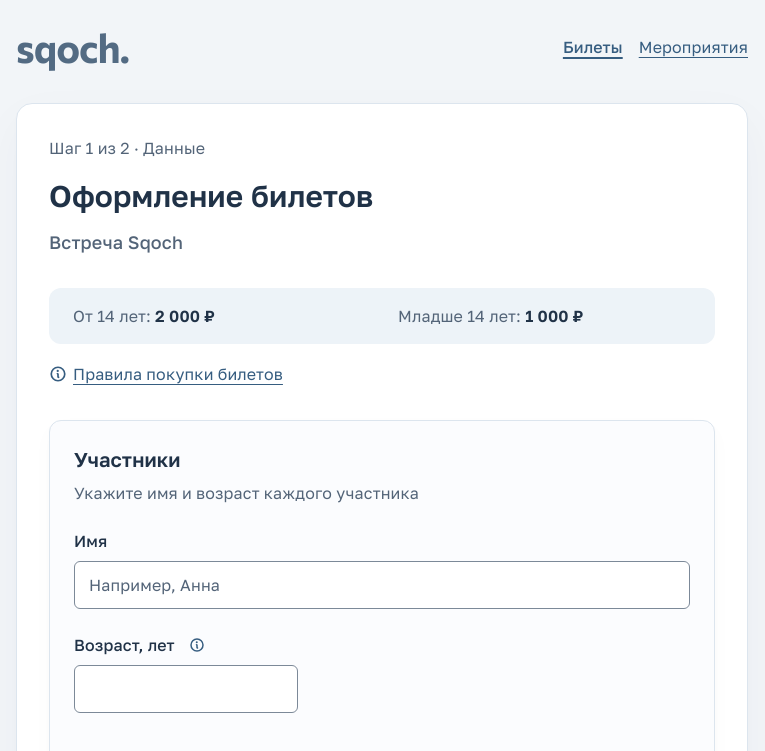
Test: Эвристическая доводка — test first › следующая структурная операция add отменяет возможность вернуть прежнее удаление
The width and height of the screenshot is (765, 751).
Expected: the heading "Оформление билетов" is shown, [49, 178, 373, 214]
Type "Анна" into the field labelled "Имя".
click(382, 585); type("Анна")  # box [74, 561, 690, 609]
Type "18" into the field labelled "Возраст, лет".
click(186, 689); type("18")  # box [74, 665, 298, 713]
(page scrolled)
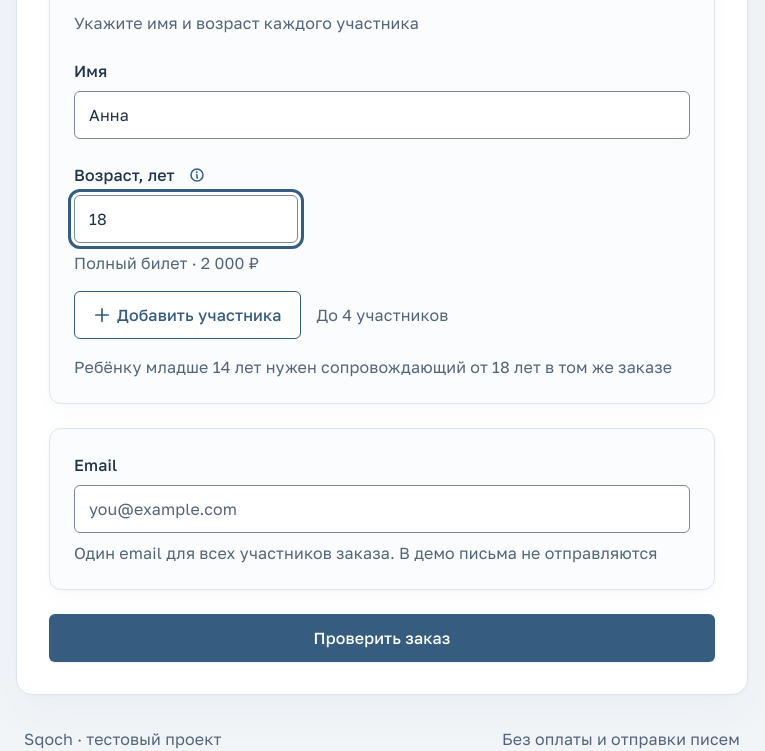
Type "anna@example.com" into the field labelled "Email".
click(382, 509); type("anna@example.com")  # box [74, 485, 690, 533]
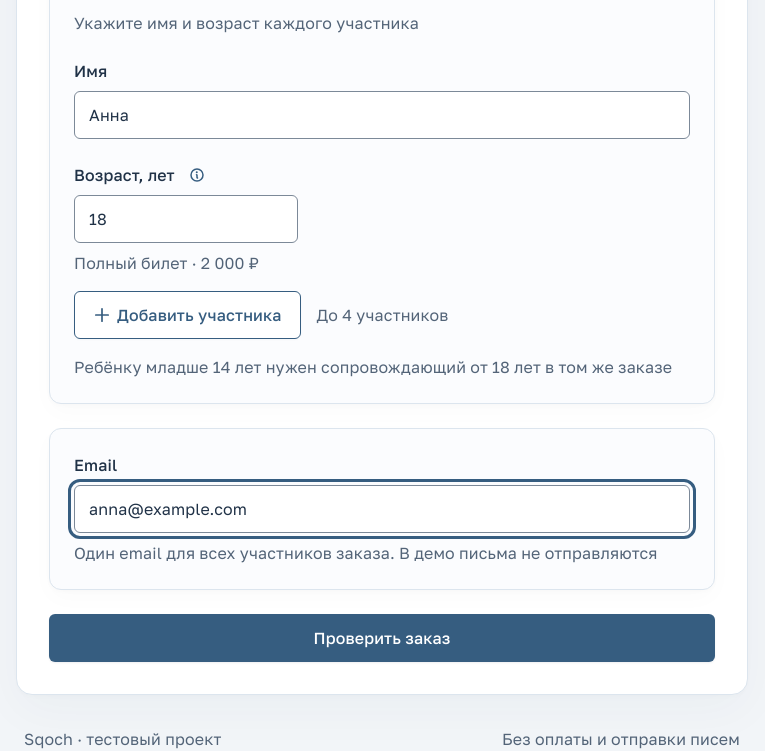
Click the button "Добавить участника".
click(187, 315)  # box [74, 291, 301, 339]
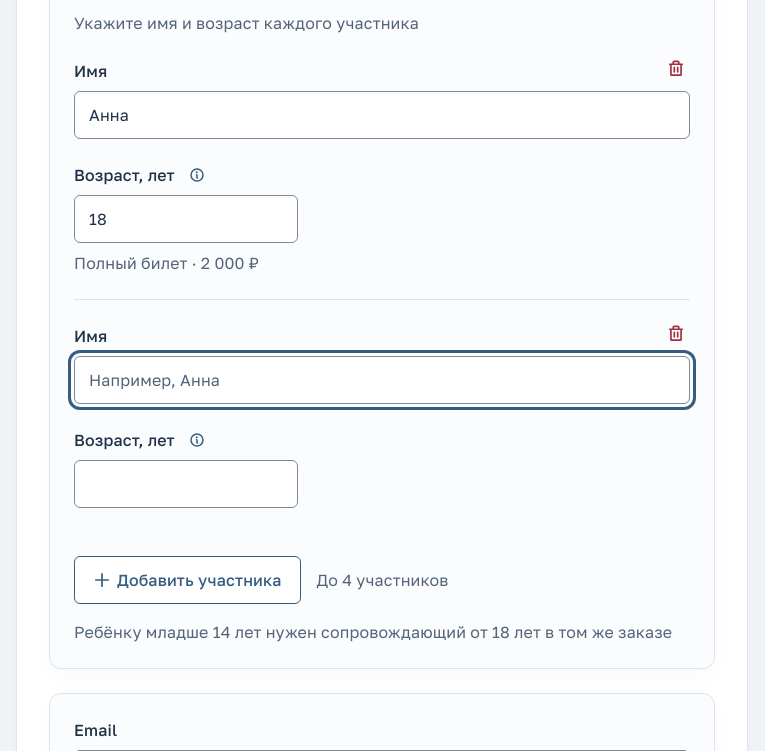
Type "Лев" into the 2nd field labelled "Имя".
click(382, 380); type("Лев")  # box [74, 356, 690, 404]
Type "13" into the 2nd field labelled "Возраст, лет".
click(186, 484); type("13")  # box [74, 460, 298, 508]
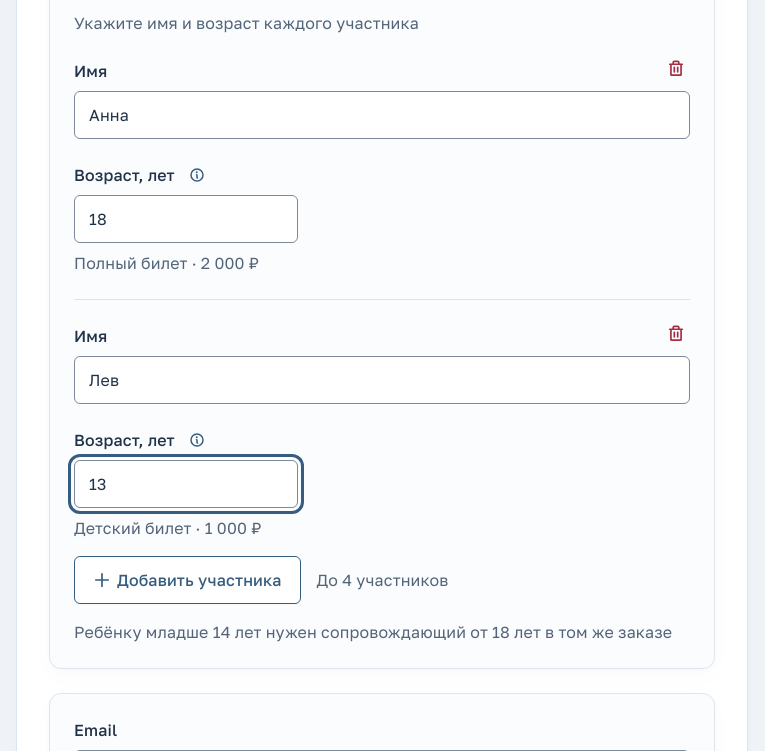
Click the button named "Удалить участника 2".
click(676, 334)  # box [654, 312, 698, 356]
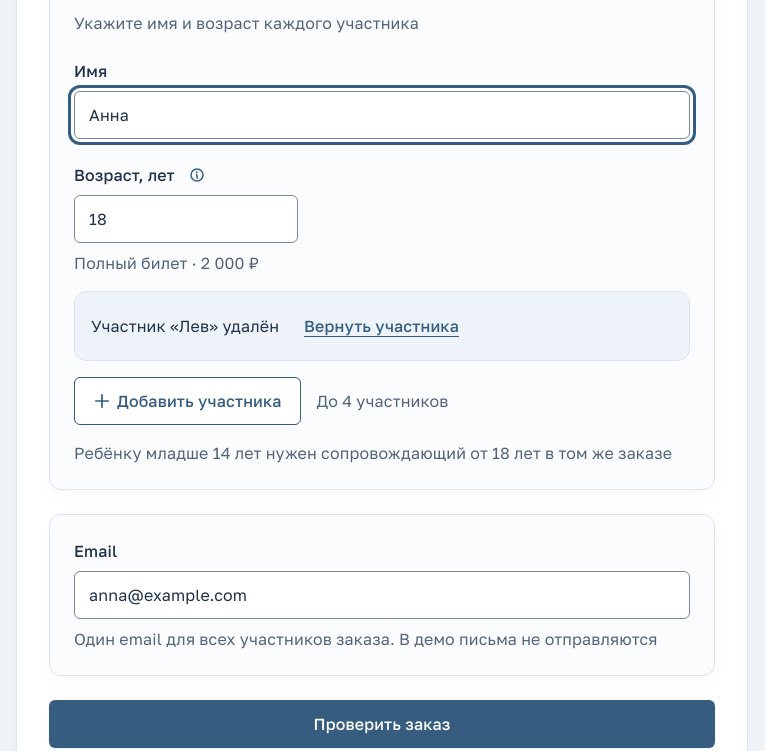
Result: the button "Вернуть участника" is shown at [291, 304, 472, 348]
Click the button "Добавить участника".
click(187, 401)  # box [74, 377, 301, 425]
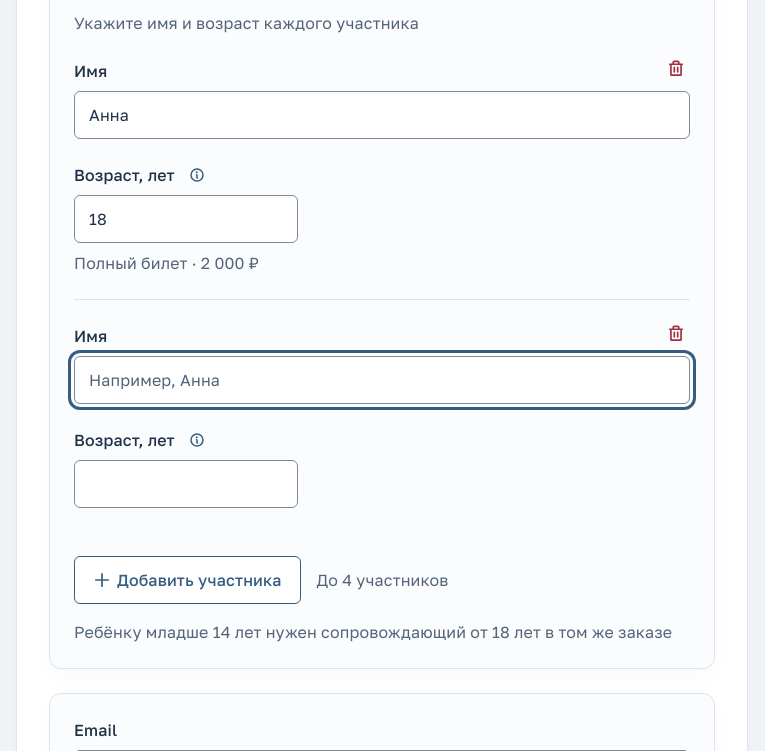
Result: the button "Вернуть участника" is gone
